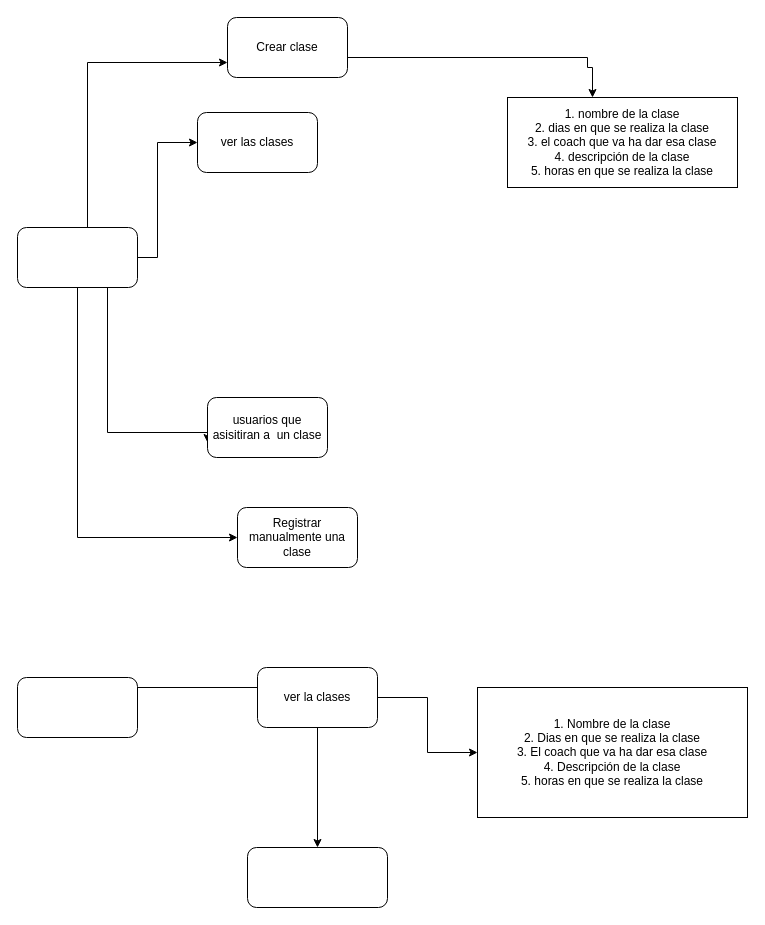
This 765x925 diagram has some shape labels left out. Here are the shapes that lost their labels. From the top down, the centre of each, then its label:
At (x=77, y=257): "administrador".
At (x=77, y=707): "usuario".
At (x=317, y=877): "me anoto a una clase".
